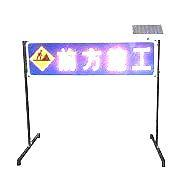sign: (26, 43, 158, 78)
